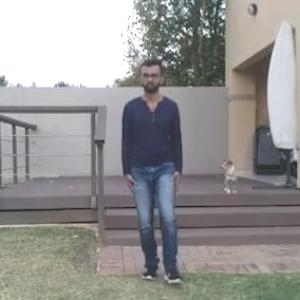follow: (121, 54, 187, 297)
